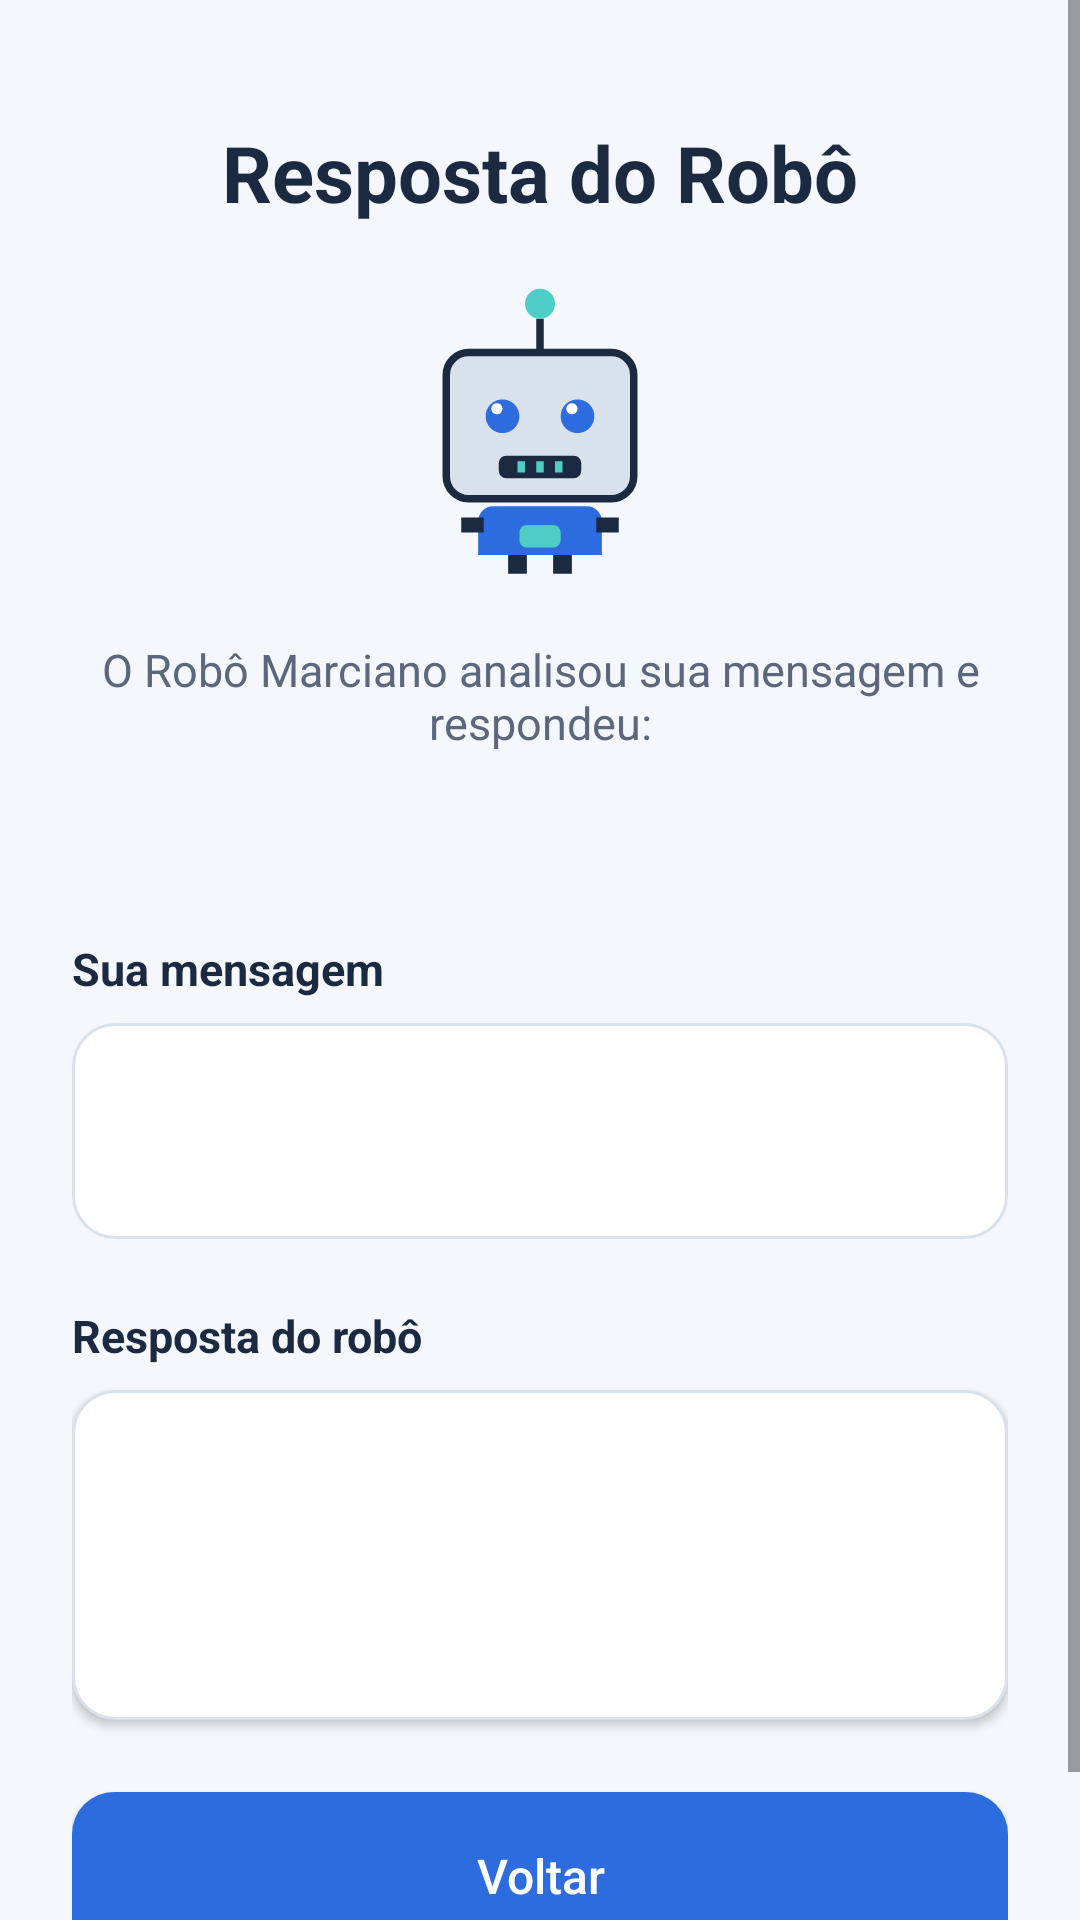

Icon bounding boxes for this 1080 × 1920 phone screenshot, format (x1, y1, x2, y2):
Imagem representando o Robô Marciano: (442, 288, 638, 574)
